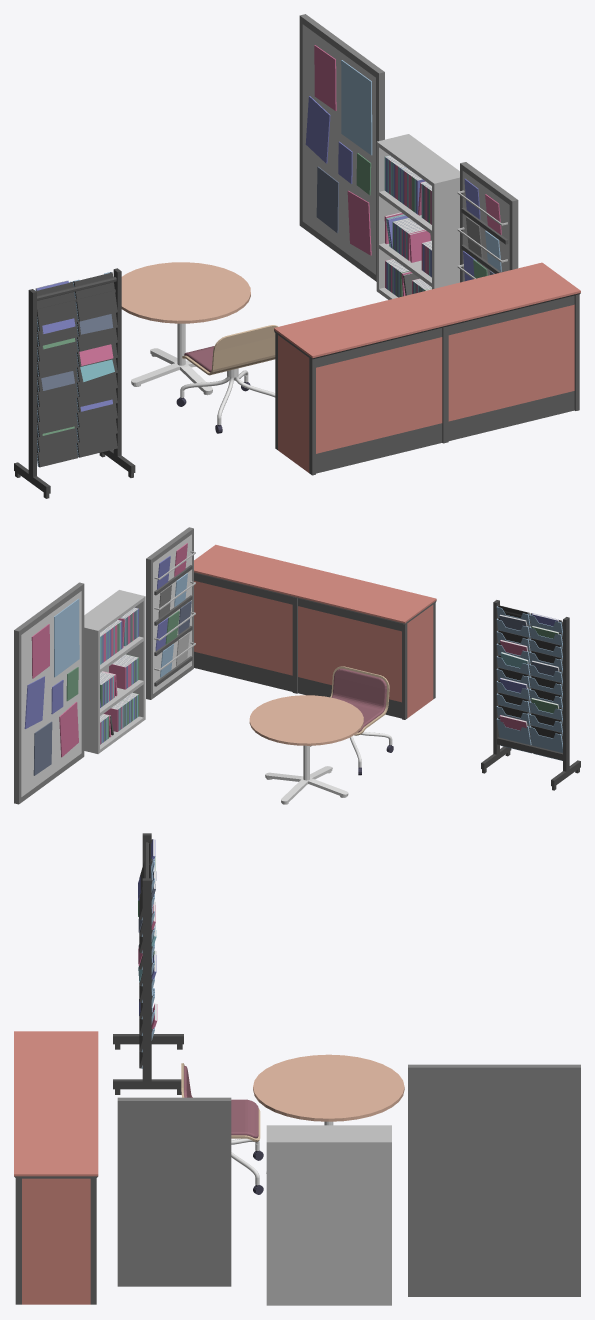
Rendered from AdministrationSeating.fbx.
The picture shows the model from 3 angles, top to bottom: view 1: azimuth 30°, elevation 25°; view 2: azimuth 150°, elevation 25°; view 3: azimuth 270°, elevation 25°; orthographic projection. The views are drawn at different scales.
Visible parts, largest first — view 1: HeaterUnit, LeafletRack, PosterBoardB, BookShelf, Table, PosterBoardA, Chair; view 2: HeaterUnit, PosterBoardB, LeafletRack, BookShelf, PosterBoardA, Table, Chair; view 3: PosterBoardB, HeaterUnit, BookShelf, PosterBoardA, Table, LeafletRack, Chair.
Boxes of the visible parts, x1=… form: HeaterUnit: x1=274, y1=262, x2=580, y2=475; LeafletRack: x1=14, y1=268, x2=135, y2=498; PosterBoardB: x1=299, y1=14, x2=384, y2=281; BookShelf: x1=376, y1=134, x2=459, y2=299; Table: x1=121, y1=262, x2=250, y2=395; PosterBoardA: x1=457, y1=162, x2=518, y2=282; Chair: x1=176, y1=325, x2=277, y2=433; HeaterUnit: x1=194, y1=544, x2=436, y2=719; PosterBoardB: x1=14, y1=582, x2=84, y2=804; LeafletRack: x1=481, y1=600, x2=580, y2=790; BookShelf: x1=84, y1=590, x2=145, y2=753; PosterBoardA: x1=146, y1=527, x2=195, y2=699; Table: x1=249, y1=695, x2=363, y2=804; Chair: x1=310, y1=666, x2=393, y2=775; PosterBoardB: x1=408, y1=1064, x2=580, y2=1296; HeaterUnit: x1=14, y1=1031, x2=98, y2=1304; BookShelf: x1=266, y1=1125, x2=391, y2=1305; PosterBoardA: x1=117, y1=1097, x2=231, y2=1286; Table: x1=253, y1=1054, x2=404, y2=1173; LeafletRack: x1=113, y1=833, x2=183, y2=1094; Chair: x1=181, y1=1063, x2=263, y2=1194.
Size of the model in its own units: 3807 by 1612 by 3497.
